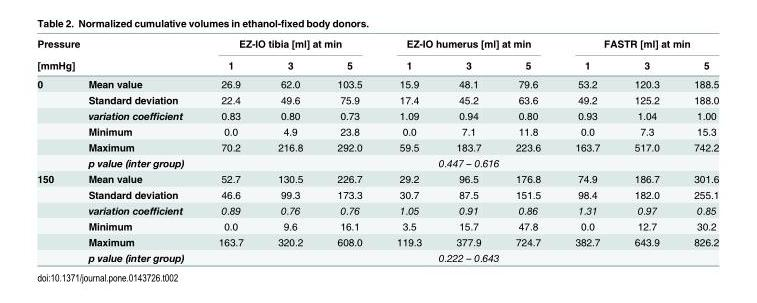table: (36, 37, 718, 263)
table column: (70, 37, 200, 263), (259, 37, 319, 263), (378, 37, 438, 263), (497, 37, 557, 263), (616, 37, 676, 263), (200, 37, 259, 263), (319, 37, 378, 263), (438, 37, 497, 263), (557, 37, 616, 263), (676, 37, 718, 263), (36, 37, 70, 263)
table column header: (36, 37, 718, 91)
table row: (36, 53, 718, 74), (36, 74, 718, 91), (36, 201, 718, 218), (36, 37, 718, 53), (36, 91, 718, 107), (36, 107, 718, 123), (36, 138, 718, 154), (36, 154, 718, 170), (36, 170, 718, 186), (36, 233, 718, 249), (36, 123, 718, 138), (36, 186, 718, 201), (36, 218, 718, 233), (36, 249, 718, 263)
table spanning cell: (200, 154, 718, 170), (200, 249, 718, 263), (36, 37, 200, 74), (36, 170, 70, 263), (378, 37, 557, 53), (200, 37, 378, 53), (557, 37, 718, 53), (259, 53, 319, 91), (378, 53, 438, 91), (497, 53, 557, 91), (616, 53, 676, 91), (200, 53, 259, 91), (319, 53, 378, 91), (438, 53, 497, 91), (557, 53, 616, 91), (676, 53, 718, 91)
